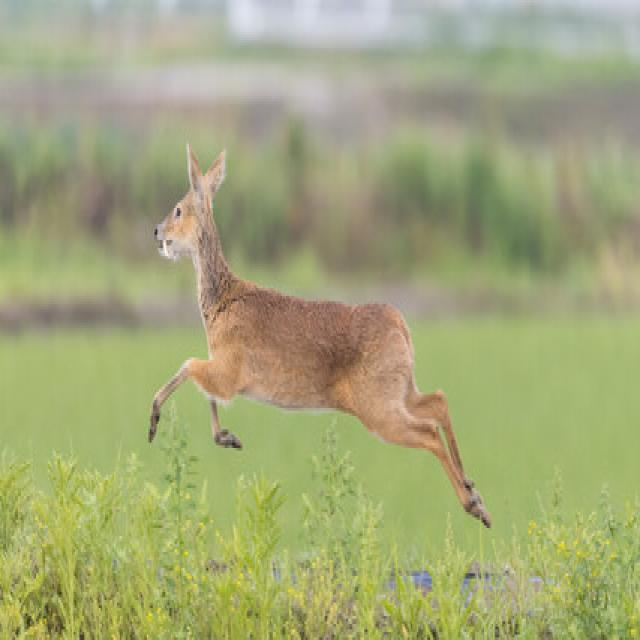elk: (136, 140, 499, 532)
